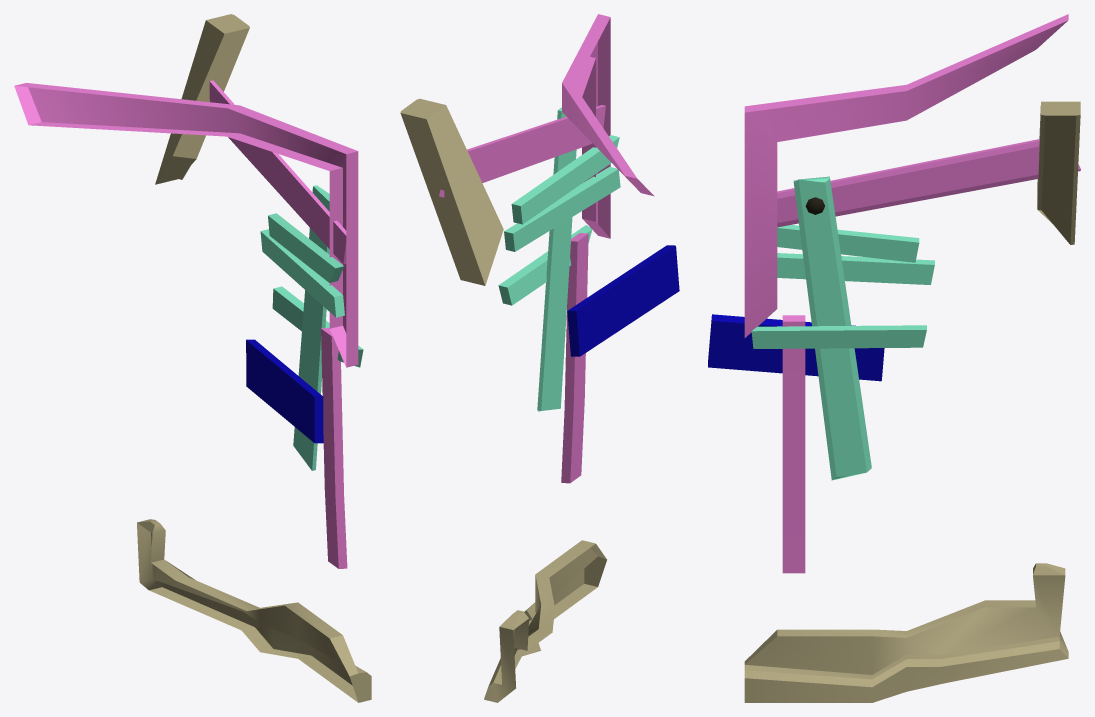
The model's file is Wall_Broken_02.fbx.
3 views of the same model, side by side, from view 1: azimuth 30°, elevation 25°; view 2: azimuth 150°, elevation 25°; view 3: azimuth 270°, elevation 25° (orthographic). The views are drawn at different scales.
Parts seen in each view (by area): view 1: Object035; view 2: Object035; view 3: Object035.
Boxes of the visible parts, <box> form: Object035: <box>14,14,371,702</box>; Object035: <box>400,14,679,702</box>; Object035: <box>708,14,1080,702</box>.
Size of the model in its own units: 0.8436 by 2.02 by 1.14.
